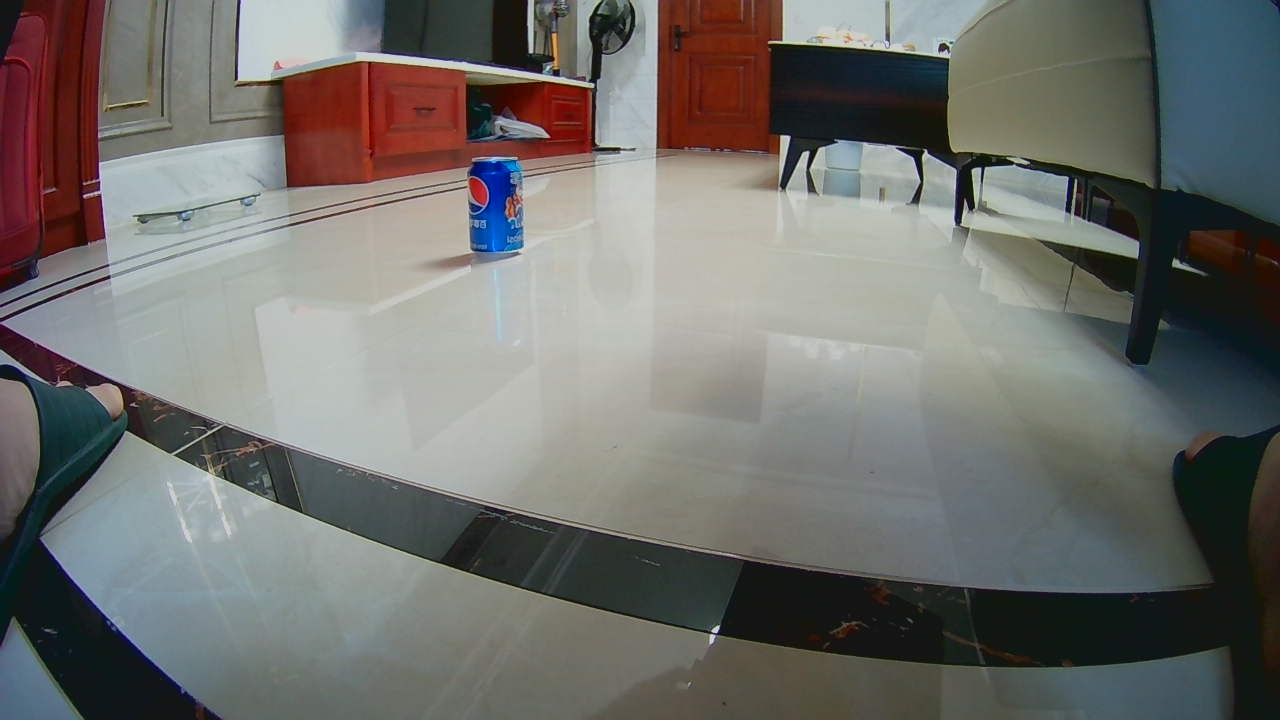pessi: (467, 161, 524, 263)
